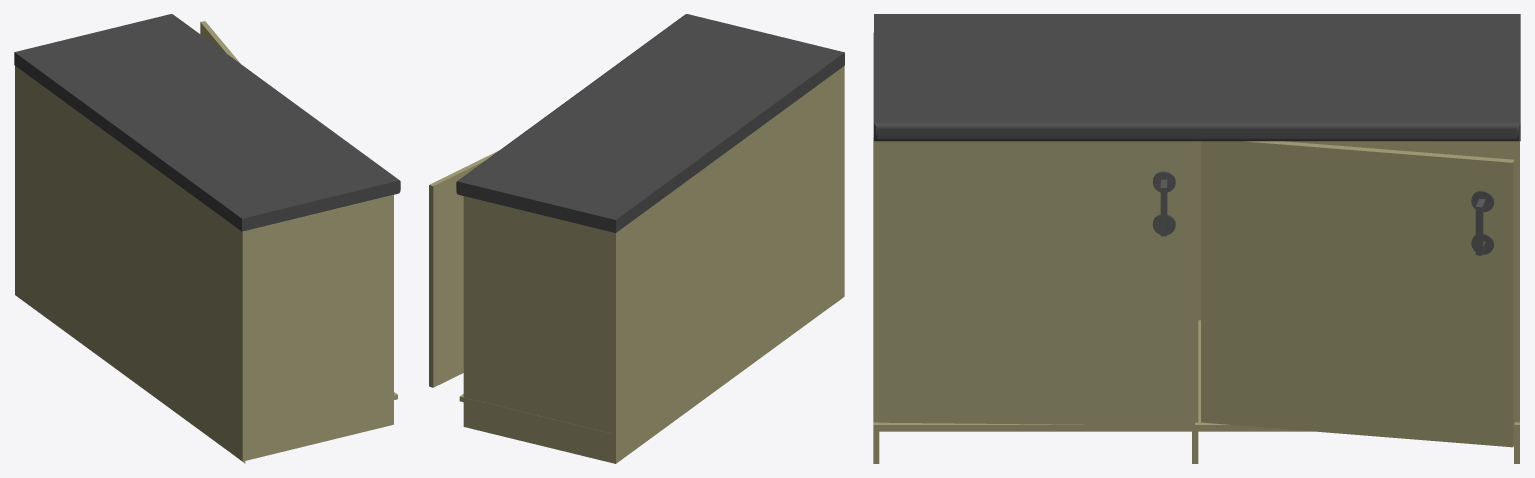
File: Worktop_03.fbx
3 views of the same model, side by side, from view 1: azimuth 30°, elevation 25°; view 2: azimuth 150°, elevation 25°; view 3: azimuth 270°, elevation 25° (orthographic). The views are drawn at different scales.
Parts seen in each view (by area): view 1: polySurface36; view 2: polySurface36; view 3: polySurface36.
Boxes of the visible parts, x1=… form: polySurface36: x1=14, y1=14, x2=400, y2=463; polySurface36: x1=429, y1=14, x2=844, y2=463; polySurface36: x1=873, y1=14, x2=1520, y2=463.
Size of the model in its own units: 1430 by 1700 by 2845.
